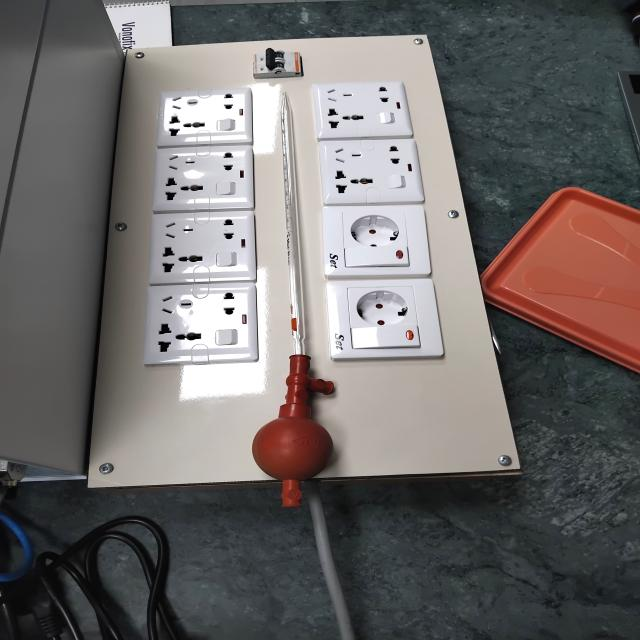Volumetric_Pipet: (222, 78, 376, 507)
